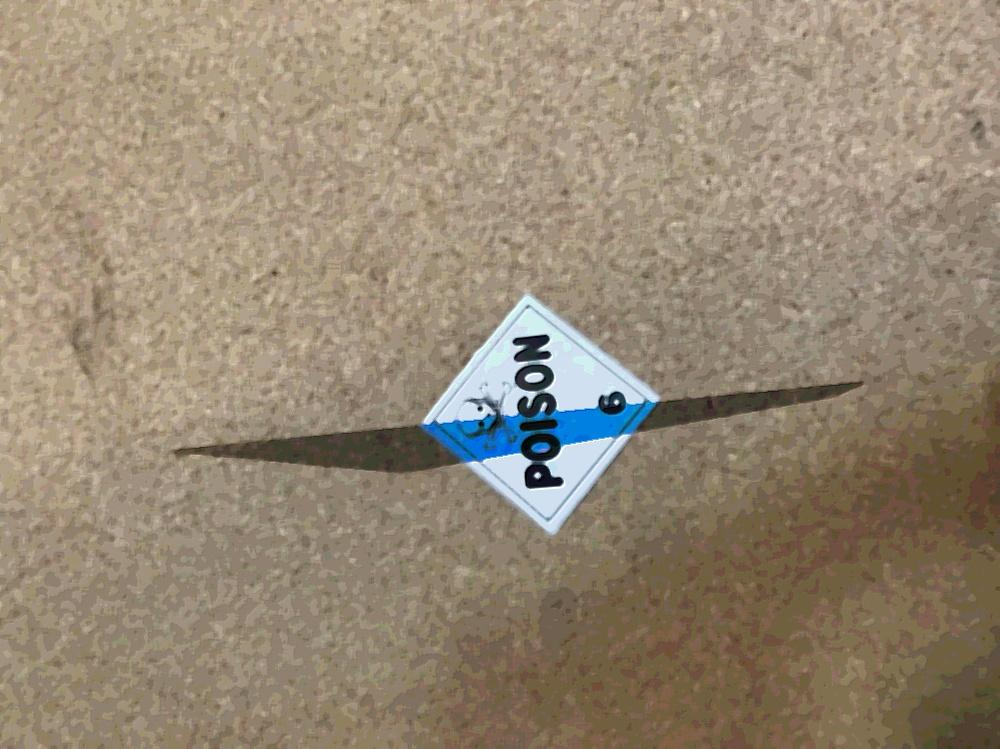poison: (433, 303, 650, 521)
